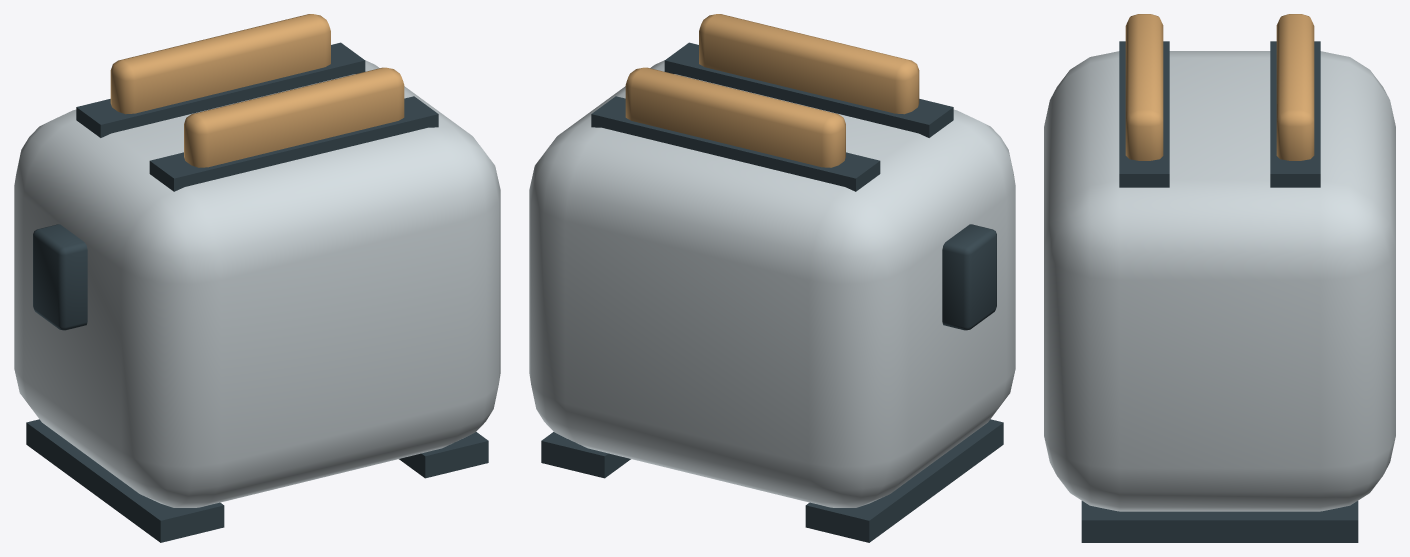
The model's file is toaster.fbx.
The picture shows the model from 3 angles, left to right: view 1: azimuth 30°, elevation 25°; view 2: azimuth 150°, elevation 25°; view 3: azimuth 270°, elevation 25°; orthographic projection. The views are drawn at different scales.
Parts seen in each view (by area): view 1: Toaster; view 2: Toaster; view 3: Toaster.
Part boxes in pixels (x1,y1,x2,y2): Toaster: (14, 14, 500, 542); Toaster: (529, 14, 1015, 542); Toaster: (1044, 14, 1395, 542).
Bounding box in the file's own units: 0.75 × 0.7 × 0.56.
